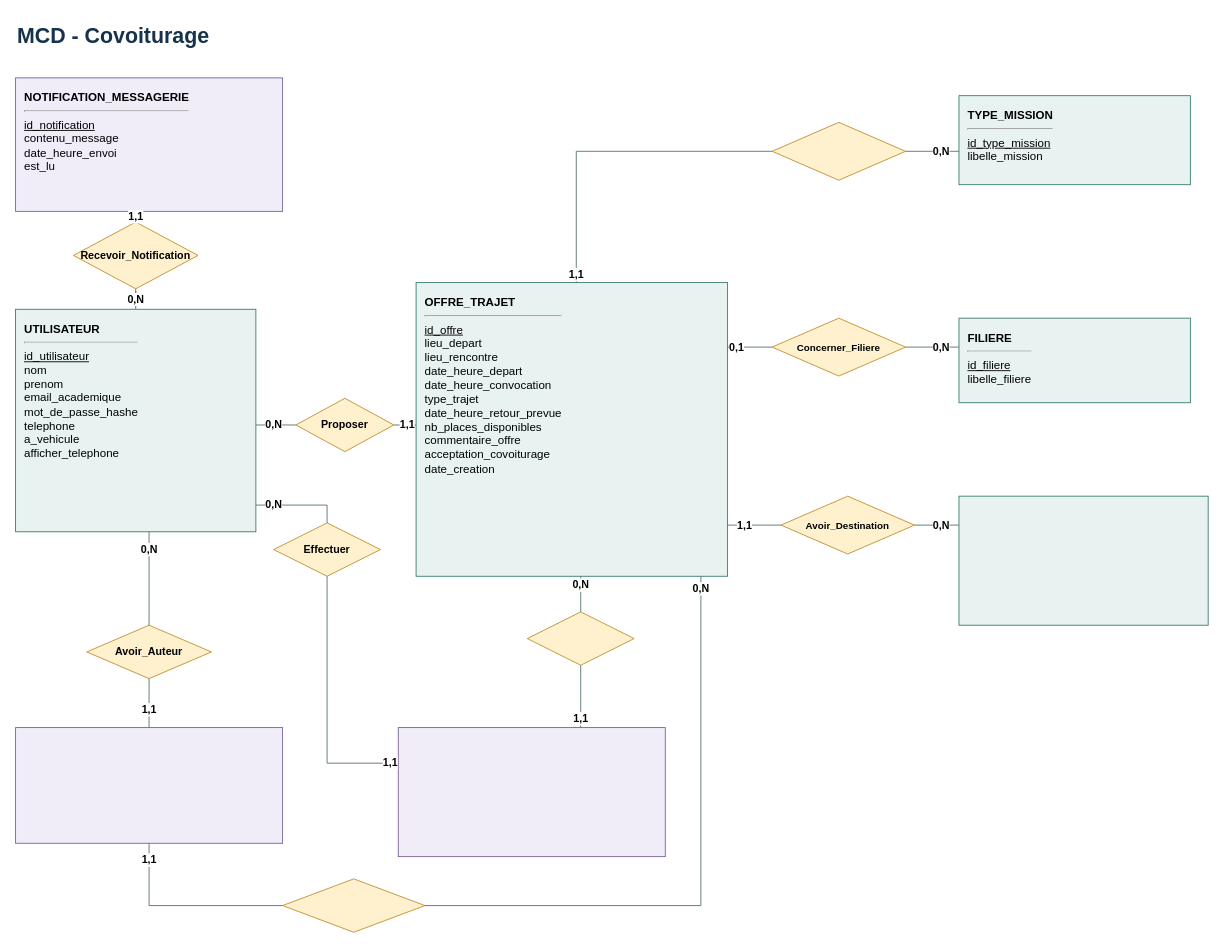
This 1224x948 diagram has some shape labels left out. The centre of each missing label's shape, as x and y in pixels:
"Appartenir" belongs at (353,905).
"COMMENTAIRE id_commentaire contenu_commentaire date_heure_publication" belongs at (149,785).
"Concerner_Mission" belongs at (838,150).
"ETABLISSEMENT id_etablissement nom_etablissement ville adresse" belongs at (1083,560).
"Recevoir" belongs at (580,638).
"REPONSE id_reponse choix_trajet commentaire_reponse date_reponse" belongs at (531,792).
